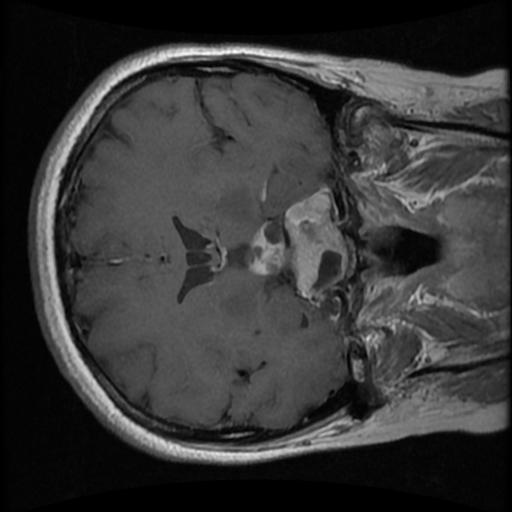pituitary tumour: (244, 188, 342, 291)
